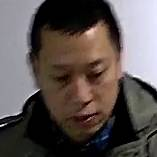qg: (23, 20, 140, 137)
